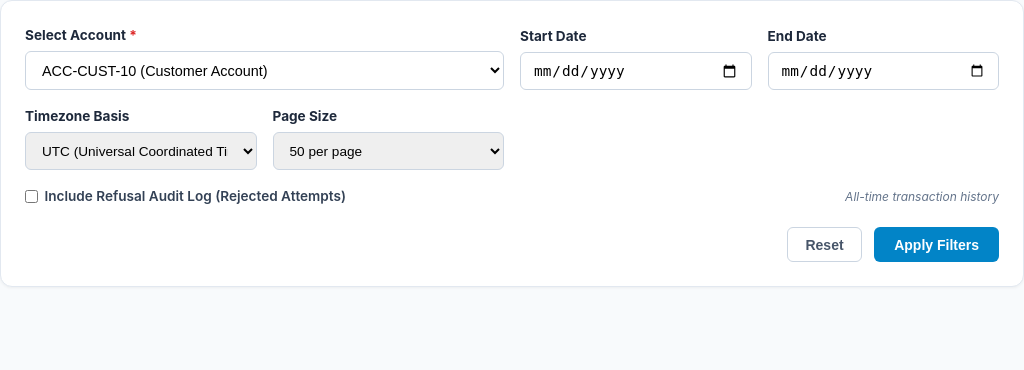
Statements UI - Component & Integration Test Suite › 5. StatementFilterBar Component › validates client-side that start date cannot be later than end date
Type "2026-03-15" into the date field with test id "filter-from-date".
click(636, 71); type("2026-03-15")  # box [520, 52, 752, 90]
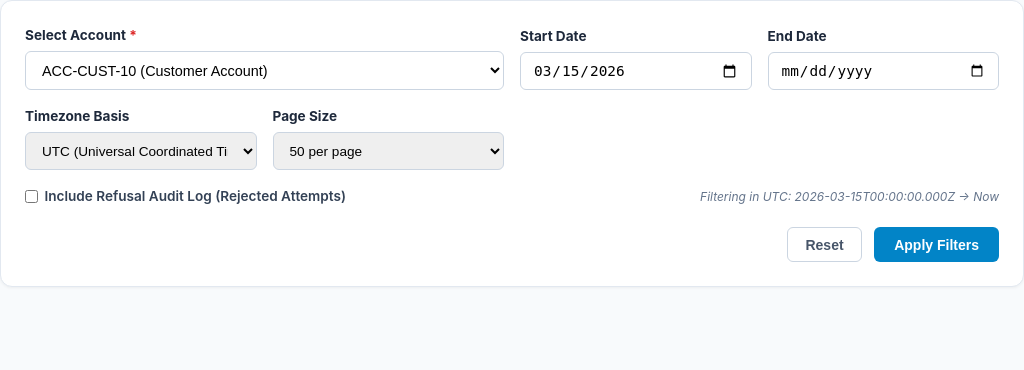
Type "2026-03-01" into the date field with test id "filter-to-date".
click(883, 71); type("2026-03-01")  # box [768, 52, 999, 90]
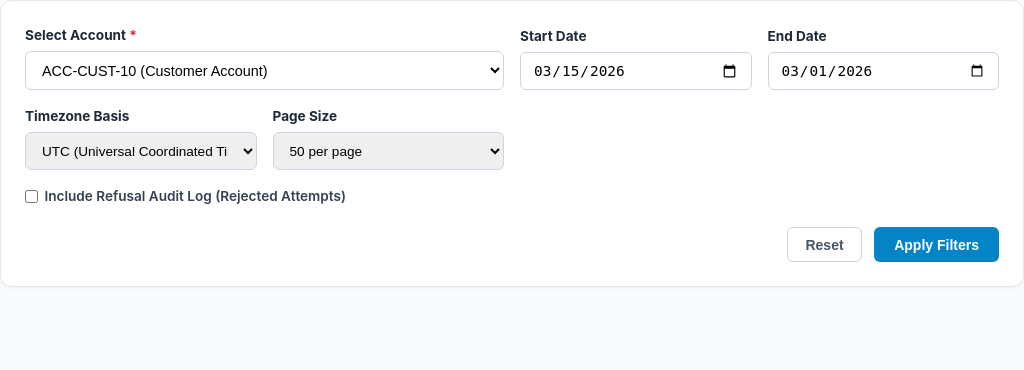
Click the button with test id "filter-submit-btn".
click(937, 244)  # box [874, 227, 999, 262]
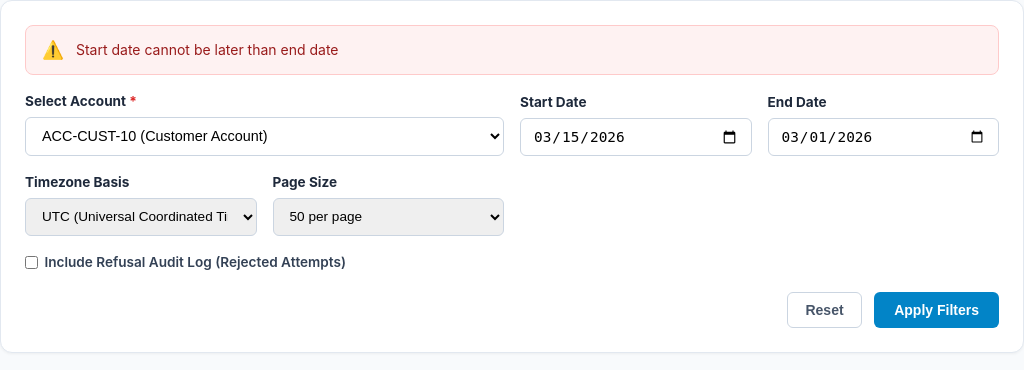
Check: the text "Start date cannot be later than end date" is shown, box [76, 41, 339, 58]
